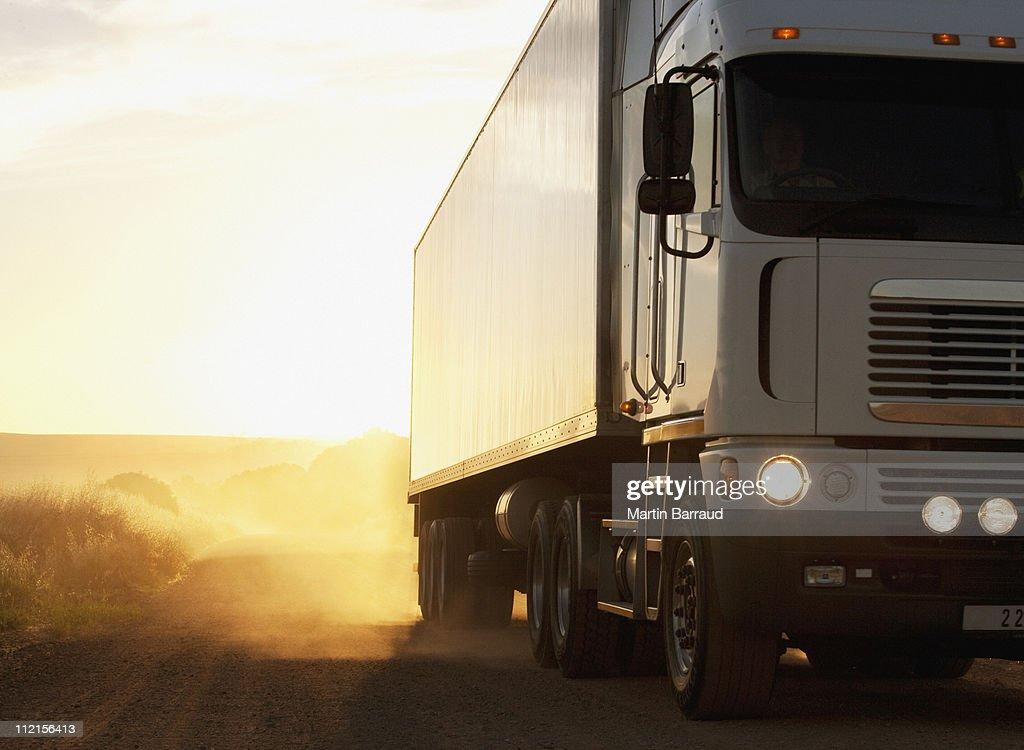truck: (407, 1, 1024, 720)
